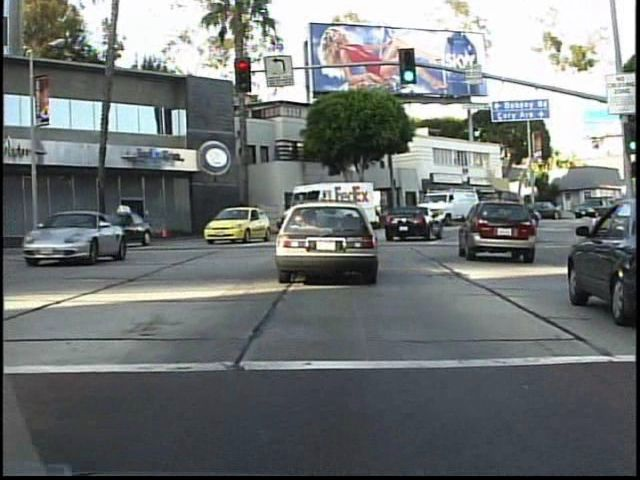person: (247, 200, 265, 228)
